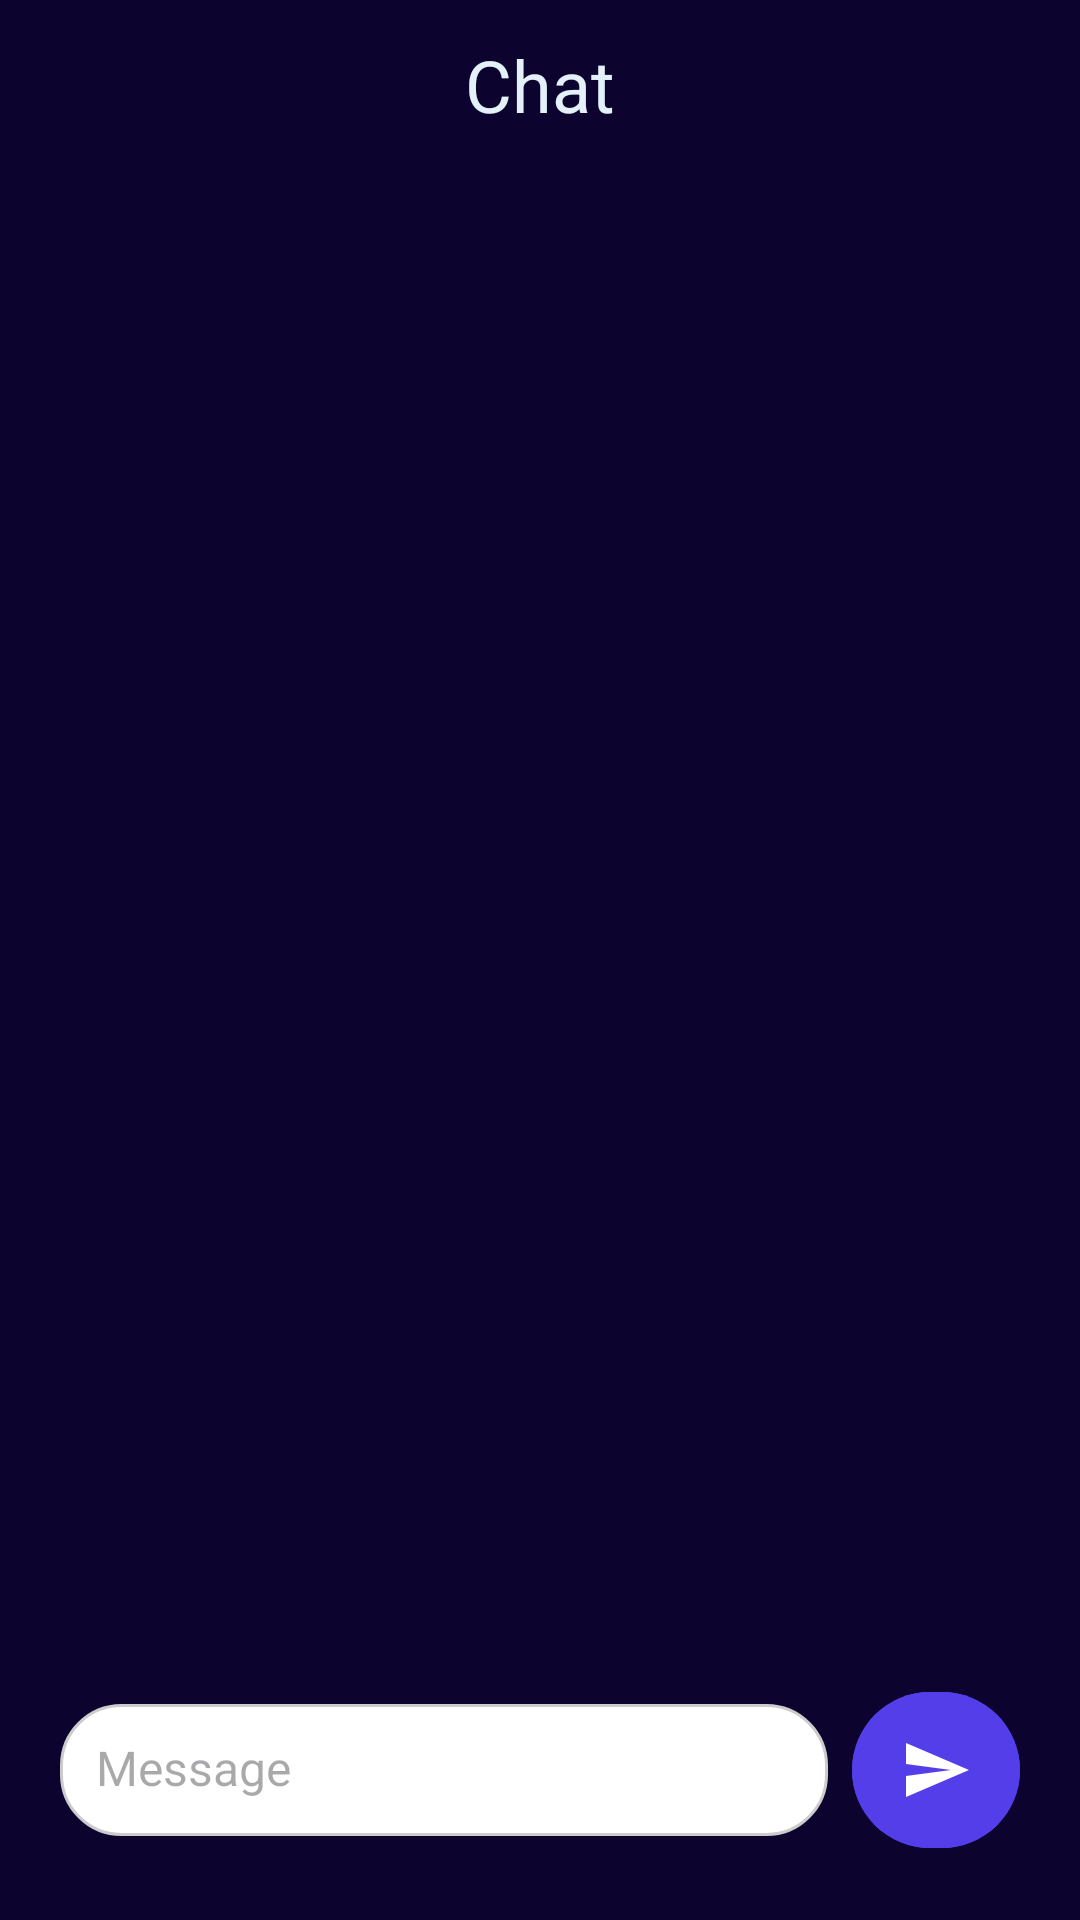

Where icons sit on this 1080 x 1920 app screen, as (x1, y1, x2, y2):
send: (852, 1692, 1020, 1848)
